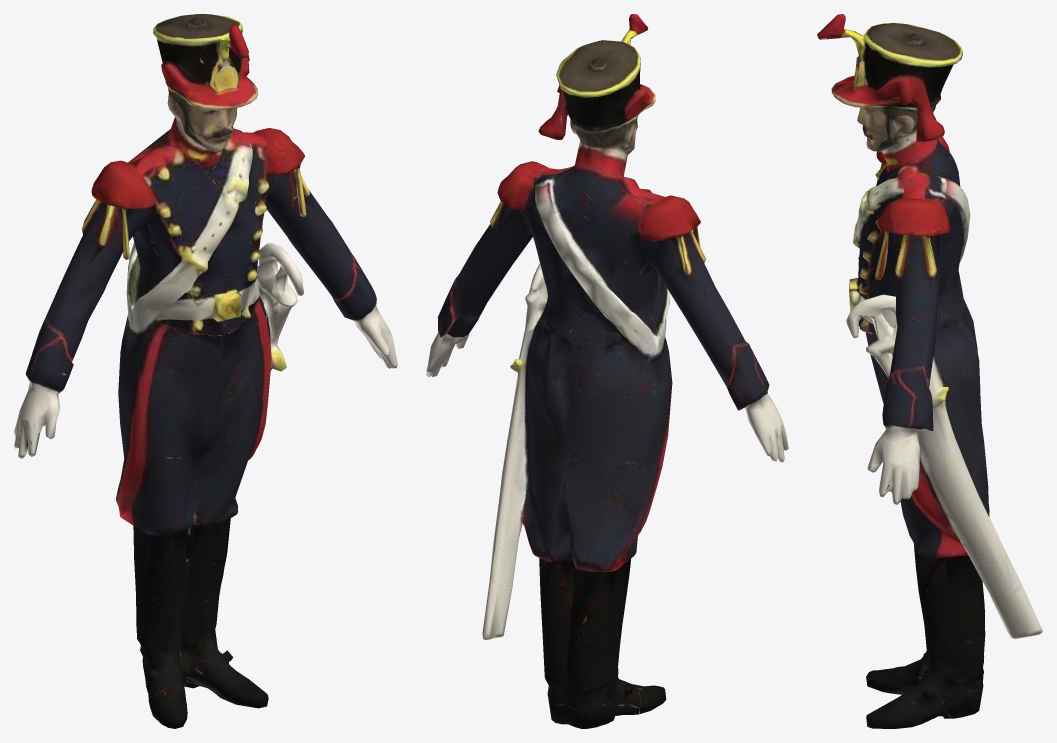
File: granadero.glb
3 renders of one model, left to right at view 1: azimuth 30°, elevation 25°; view 2: azimuth 150°, elevation 25°; view 3: azimuth 270°, elevation 25°, orthographic. The views are drawn at different scales.
Bounding box in the file's own units: 1.06 × 1.9 × 0.5624.
1 material, 1 textured.
